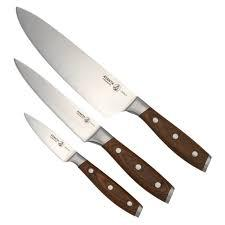Knife: (15, 6, 211, 172), (13, 57, 174, 203), (23, 111, 143, 217)
